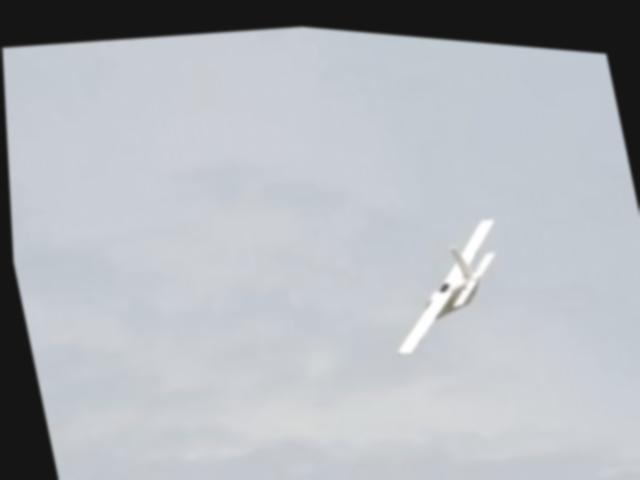uav: (365, 197, 522, 361)
